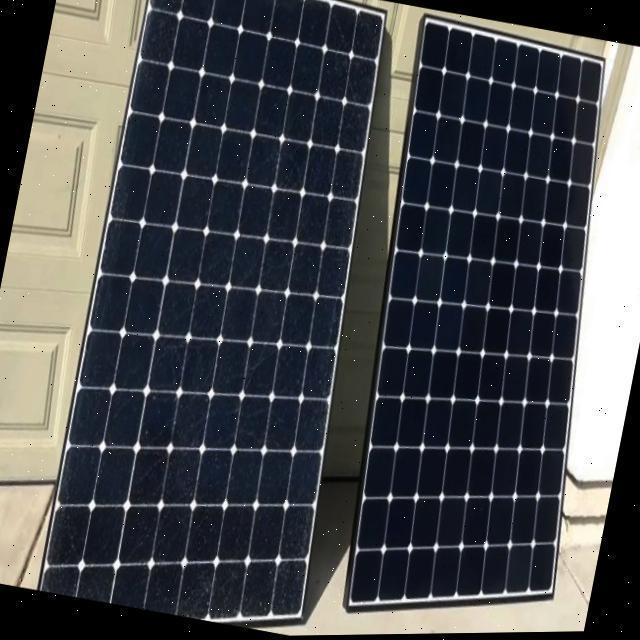Normal Solar Panel: (314, 16, 640, 636)
